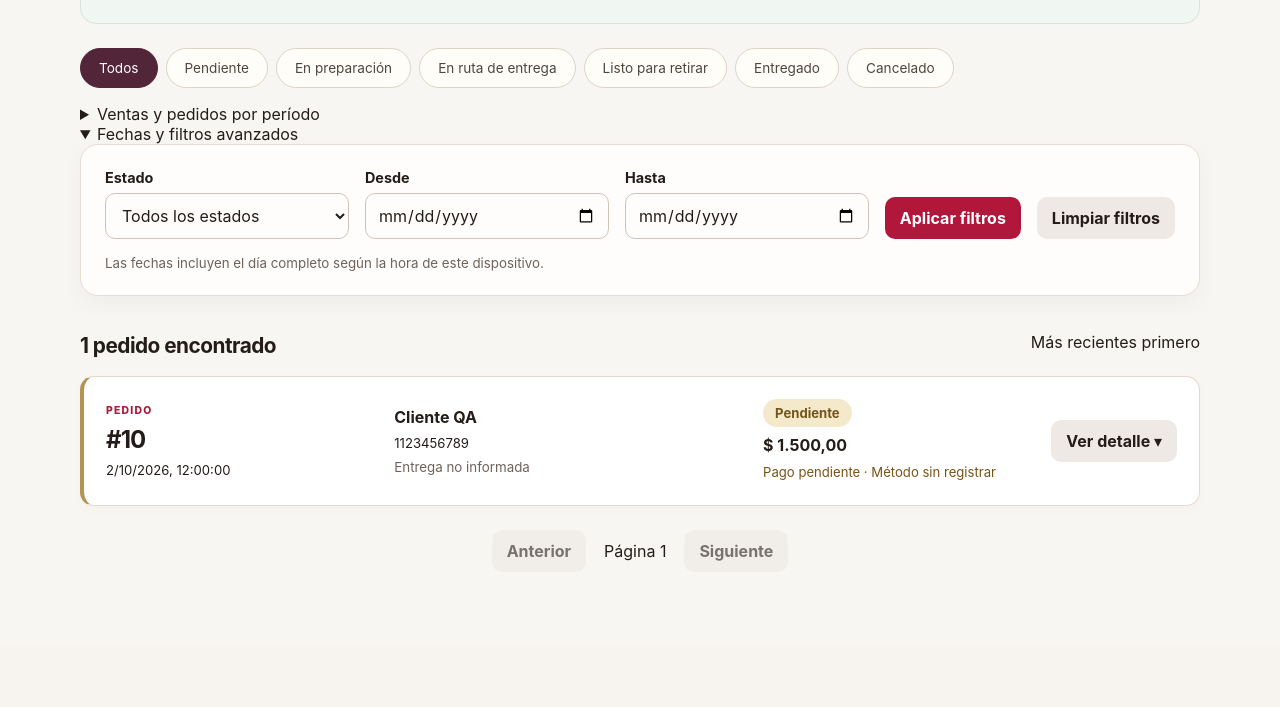
Test: una alerta conserva filtros y el detalle seleccionado
The image size is (1280, 707).
(page scrolled)
Click the button with aria-label "Ver pedido #10" at (1114, 441), box [1051,420,1177,462]
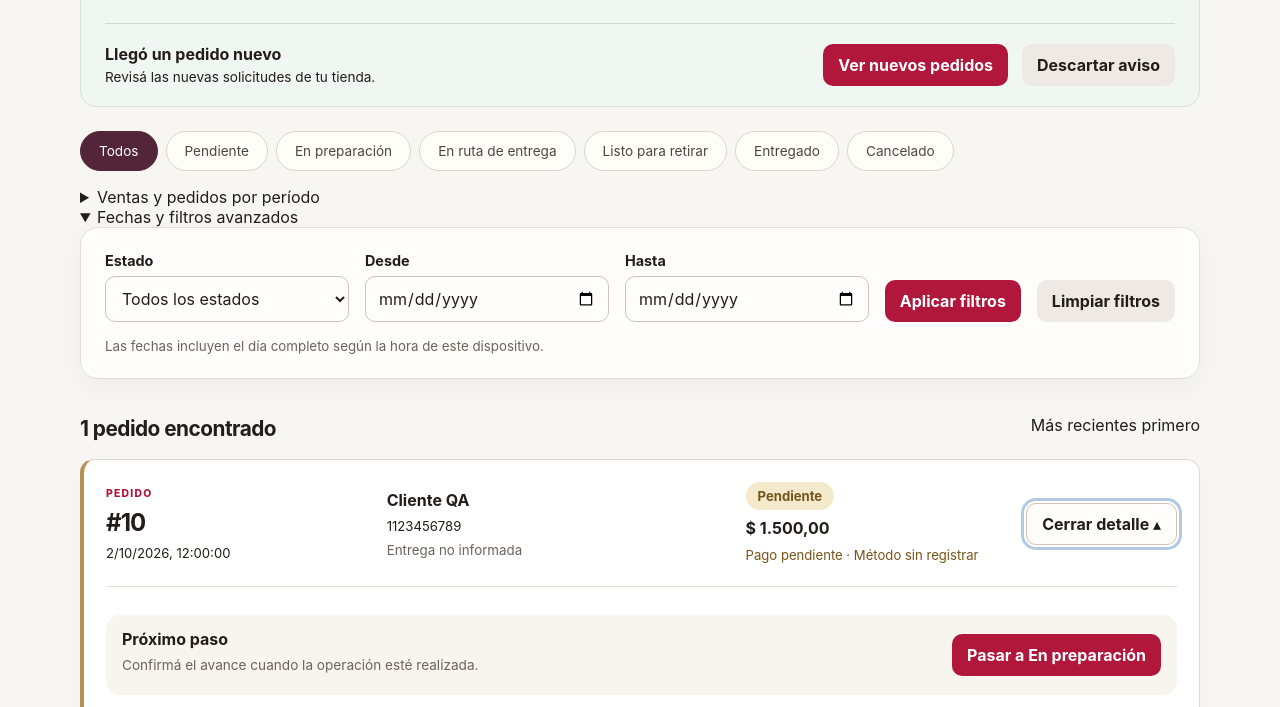
Now the text "Llegó un pedido nuevo" is shown, box [105,44,281,64]
